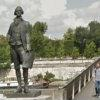Statue: (4, 2, 44, 91)
